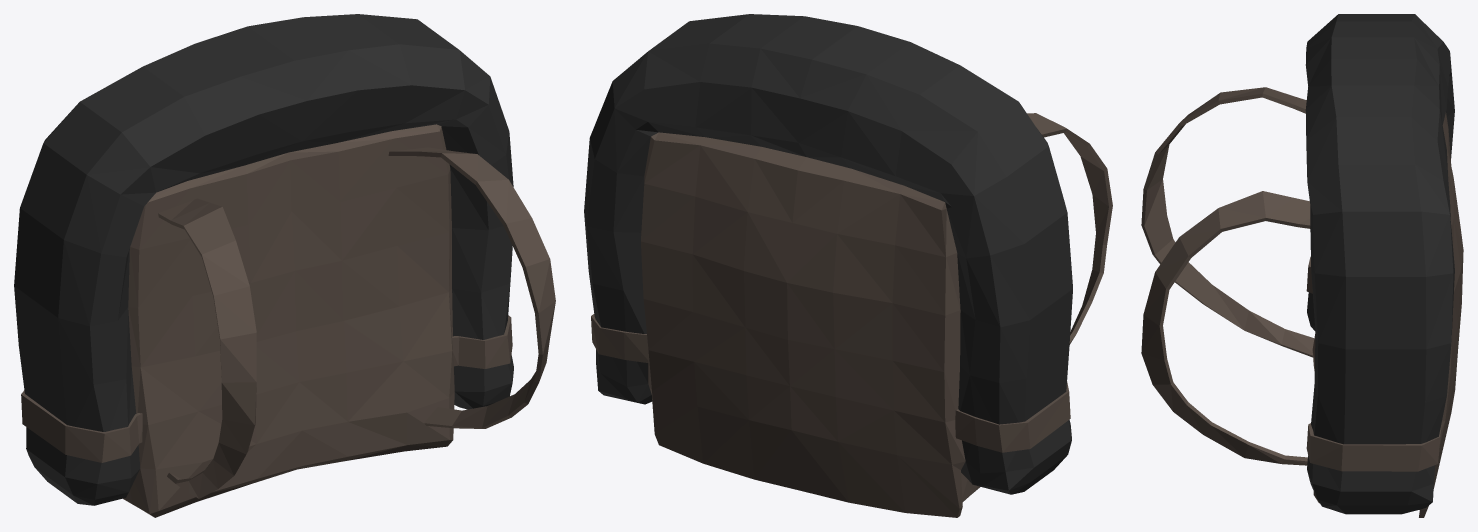
The model's file is Chr_Attach_Ger_Backpack_01.fbx.
The picture shows the model from 3 angles, left to right: view 1: azimuth 30°, elevation 25°; view 2: azimuth 150°, elevation 25°; view 3: azimuth 270°, elevation 25°; orthographic projection. The views are drawn at different scales.
Visible parts, largest first — view 1: Chr_Attach_Ger_Backpack_01_LOD0; view 2: Chr_Attach_Ger_Backpack_01_LOD0; view 3: Chr_Attach_Ger_Backpack_01_LOD0.
Boxes of the visible parts, x1,y1,x2,y2 form: Chr_Attach_Ger_Backpack_01_LOD0: (14,14,555,517); Chr_Attach_Ger_Backpack_01_LOD0: (584,14,1112,517); Chr_Attach_Ger_Backpack_01_LOD0: (1141,14,1463,517).
Size of what is drawn, in the model's own units: 52.62 by 47.79 by 35.25.
